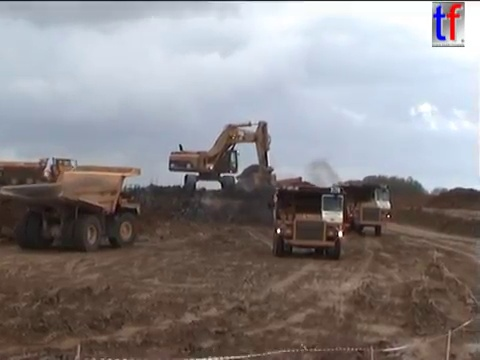excavator: (166, 119, 280, 198), (249, 175, 322, 205)
truck: (1, 164, 143, 253), (270, 184, 348, 260), (294, 181, 393, 237), (1, 156, 82, 188)
